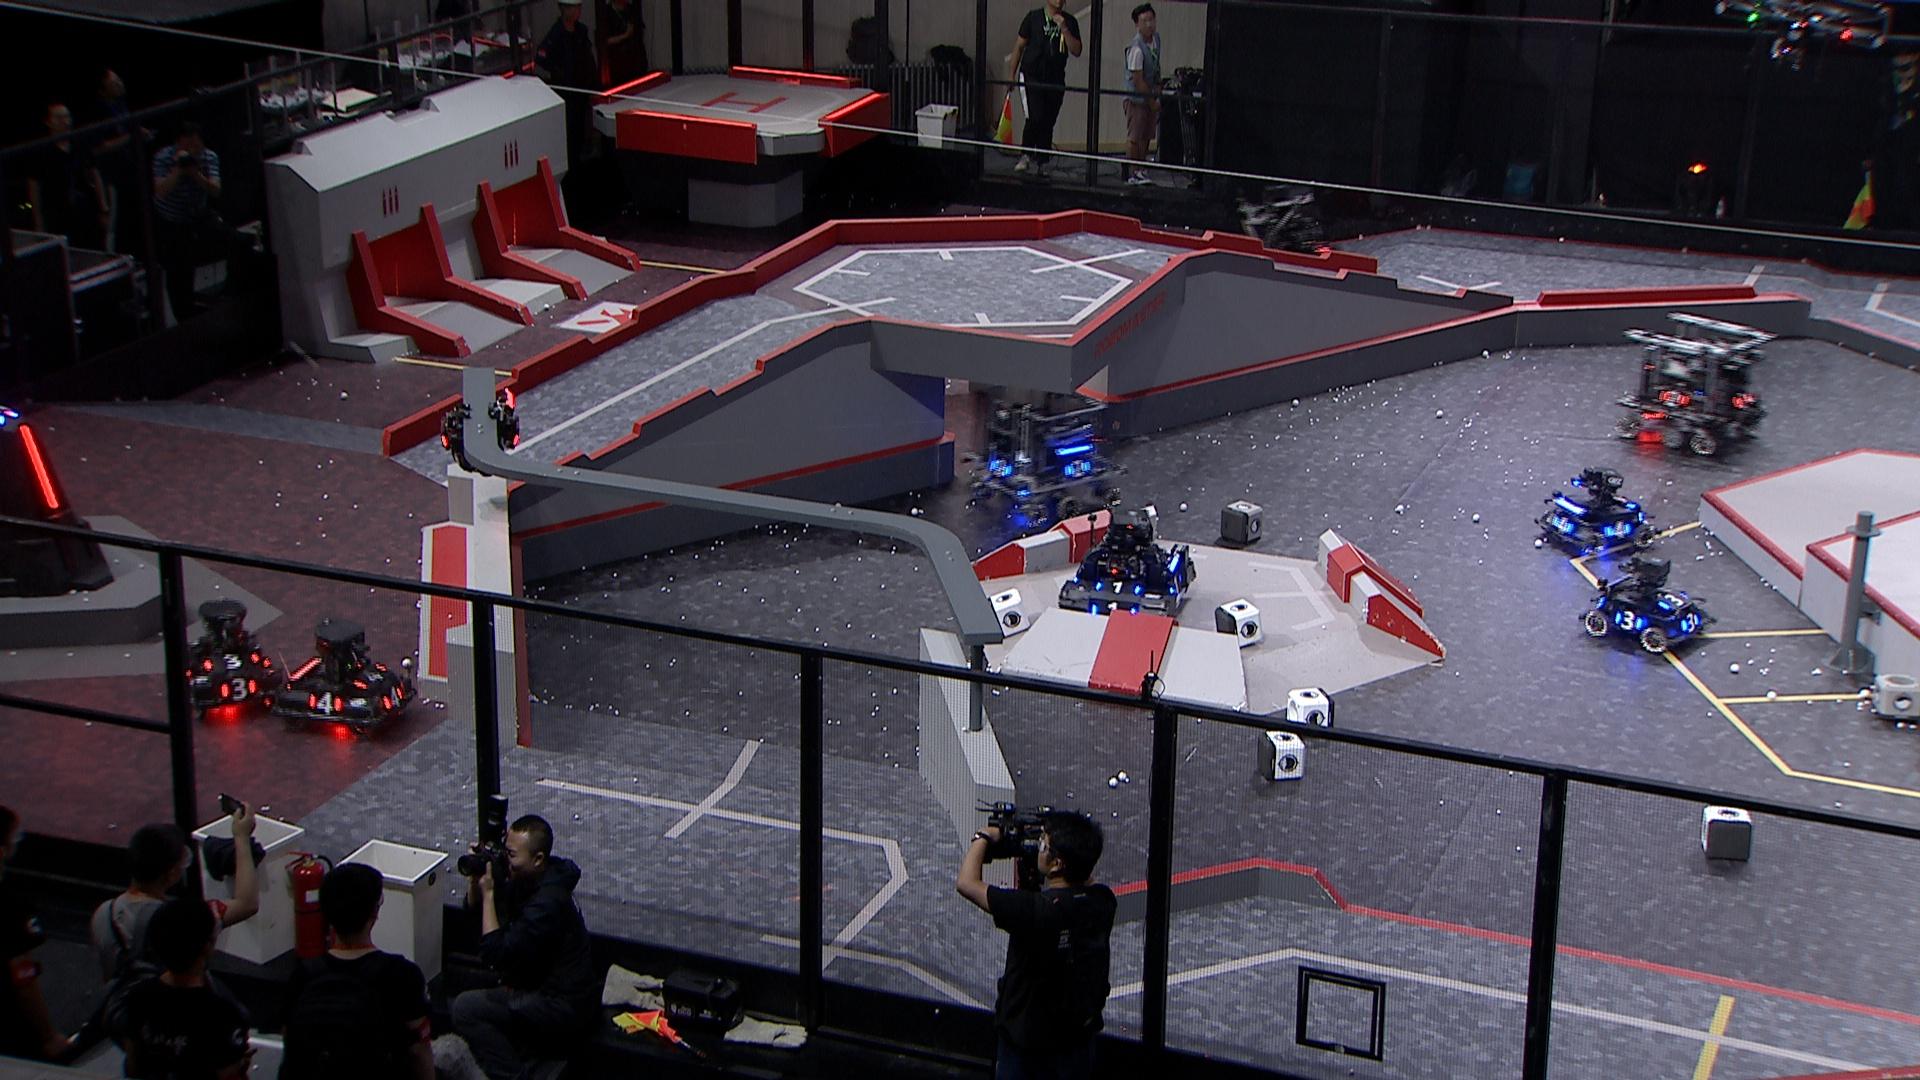armor: (17, 423, 61, 513), (200, 650, 261, 673), (222, 676, 258, 704), (306, 692, 344, 717), (1093, 579, 1145, 597), (1091, 600, 1139, 618), (356, 661, 386, 688), (1656, 591, 1689, 615), (1614, 609, 1644, 633), (1656, 390, 1691, 409), (1604, 520, 1633, 541), (986, 456, 1015, 477), (381, 687, 405, 712), (1065, 458, 1091, 481), (1679, 613, 1702, 636), (1549, 516, 1576, 535), (1731, 390, 1753, 413), (1168, 572, 1187, 597), (1611, 495, 1638, 512)
car: (963, 377, 1130, 531), (1614, 314, 1775, 458), (277, 618, 418, 741), (1055, 506, 1195, 622), (1580, 553, 1716, 655), (174, 599, 286, 713), (1534, 465, 1665, 555)
watcher: (438, 385, 524, 481)
